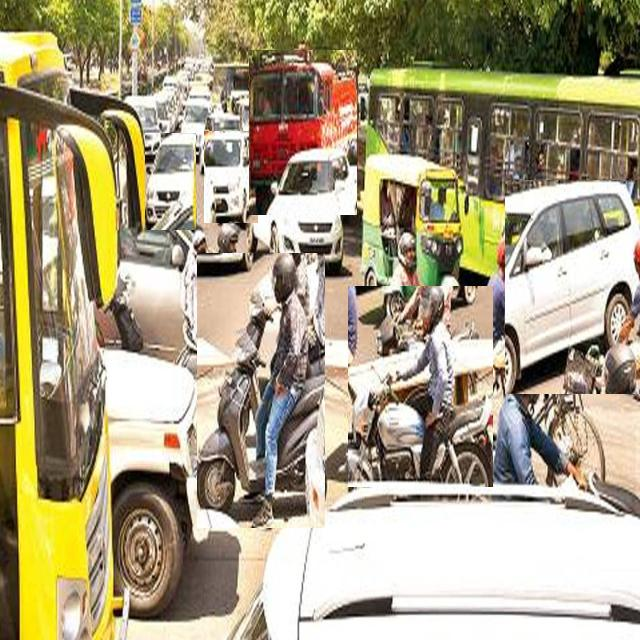autorickshaw: (361, 156, 464, 318)
bus: (366, 67, 640, 276)
car: (505, 180, 640, 394), (248, 149, 344, 269), (145, 134, 196, 230), (205, 131, 258, 223)
emergency: (250, 51, 357, 215)
motorcycle: (198, 253, 325, 528), (349, 286, 493, 487)
